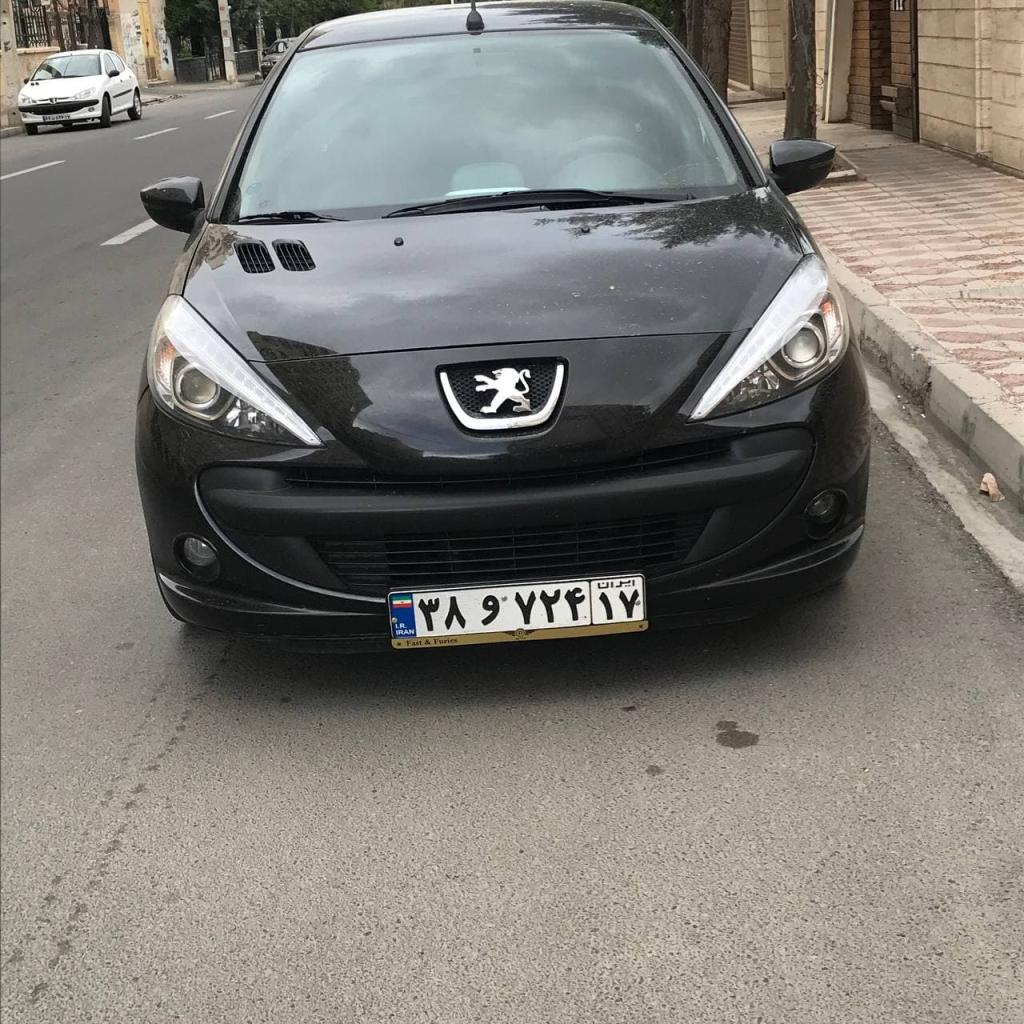Plates: (390, 576, 644, 639)
